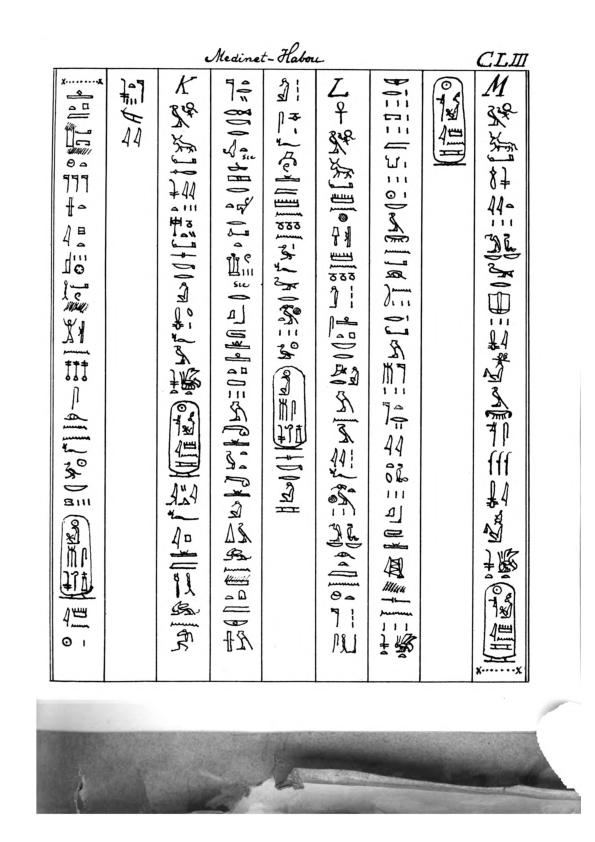circle: (57, 512, 100, 603), (430, 75, 470, 171), (268, 361, 310, 452), (162, 398, 204, 480), (479, 581, 519, 664)
